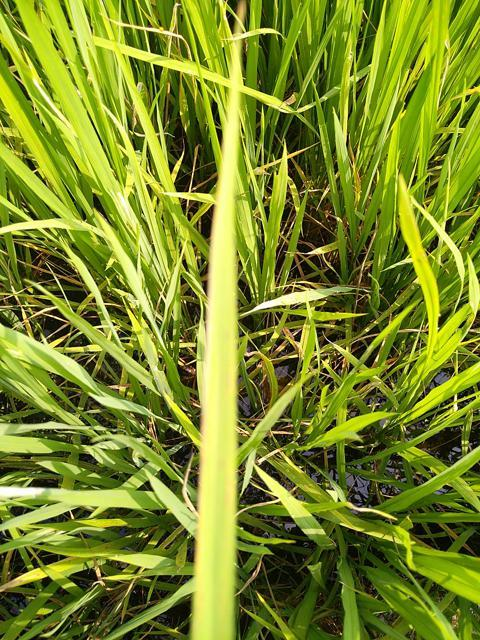Leaf Blight: (190, 35, 244, 639)
